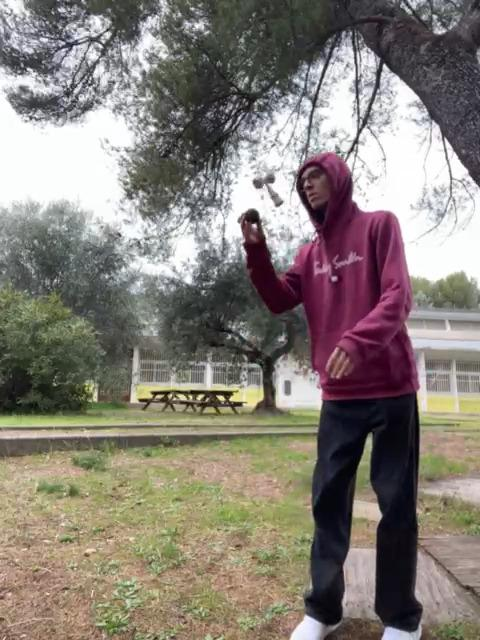kendama_ball: (243, 208, 260, 224)
